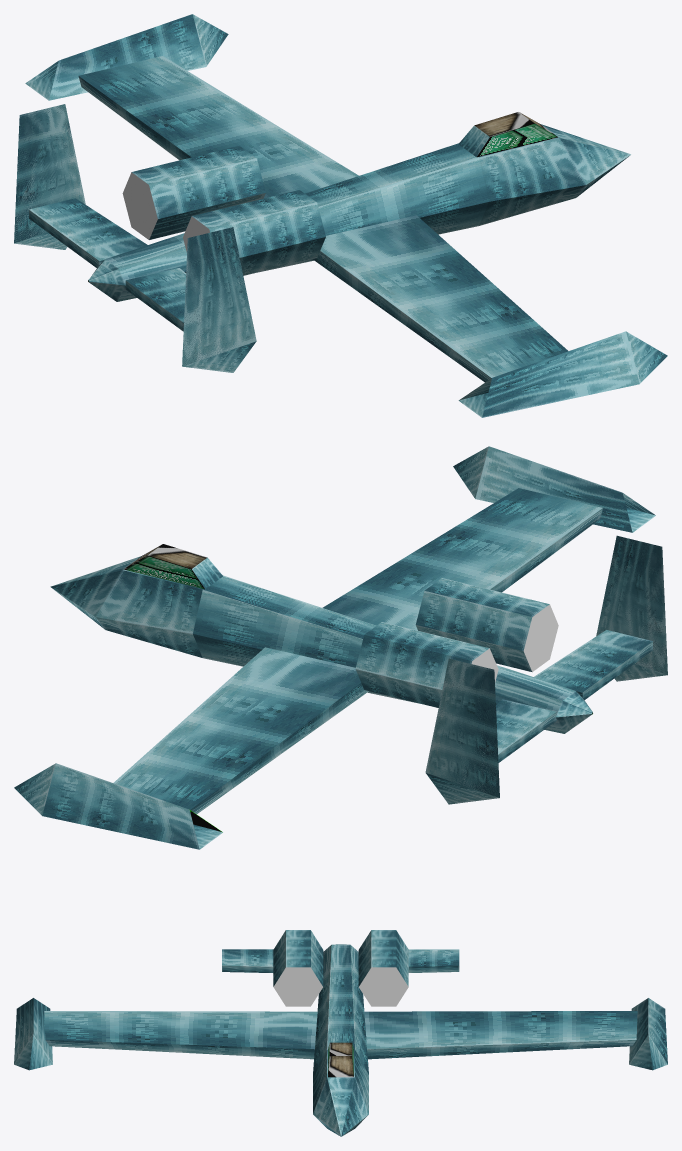
3 views of the same model, one above another, from view 1: azimuth 30°, elevation 25°; view 2: azimuth 150°, elevation 25°; view 3: azimuth 270°, elevation 25° (orthographic). The views are drawn at different scales.
Parts seen in each view (by area): view 1: prim117-Line81; view 2: prim117-Line81; view 3: prim117-Line81.
Part boxes in pixels (x1=…): prim117-Line81: x1=14, y1=14, x2=667, y2=417; prim117-Line81: x1=14, y1=446, x2=667, y2=849; prim117-Line81: x1=14, y1=930, x2=667, y2=1136.
Size of the model in its own units: 2212 by 569 by 3252.
Materials: 5 (4 with a texture image).
